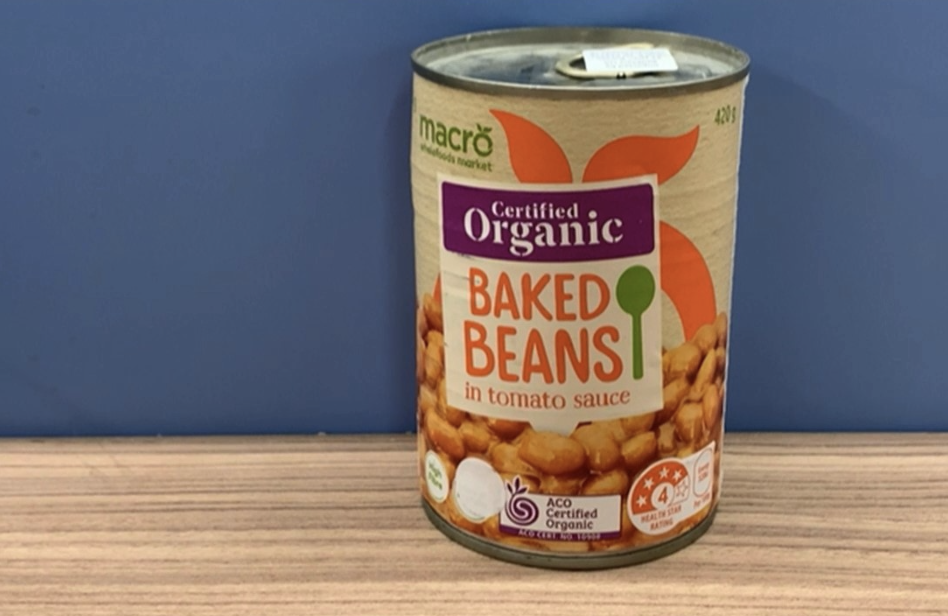Baked beans_450g: (443, 133, 698, 529)
